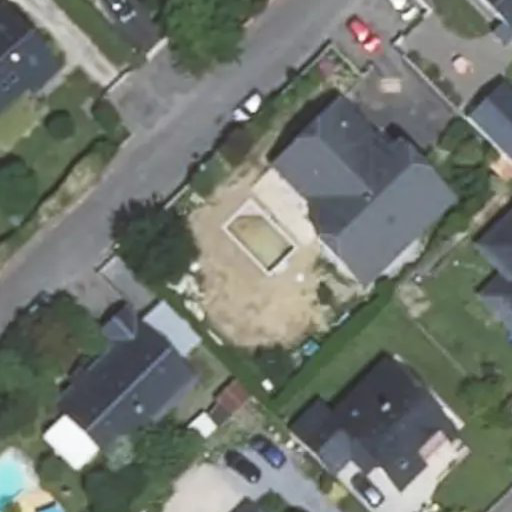pool: (219, 230, 293, 253)
